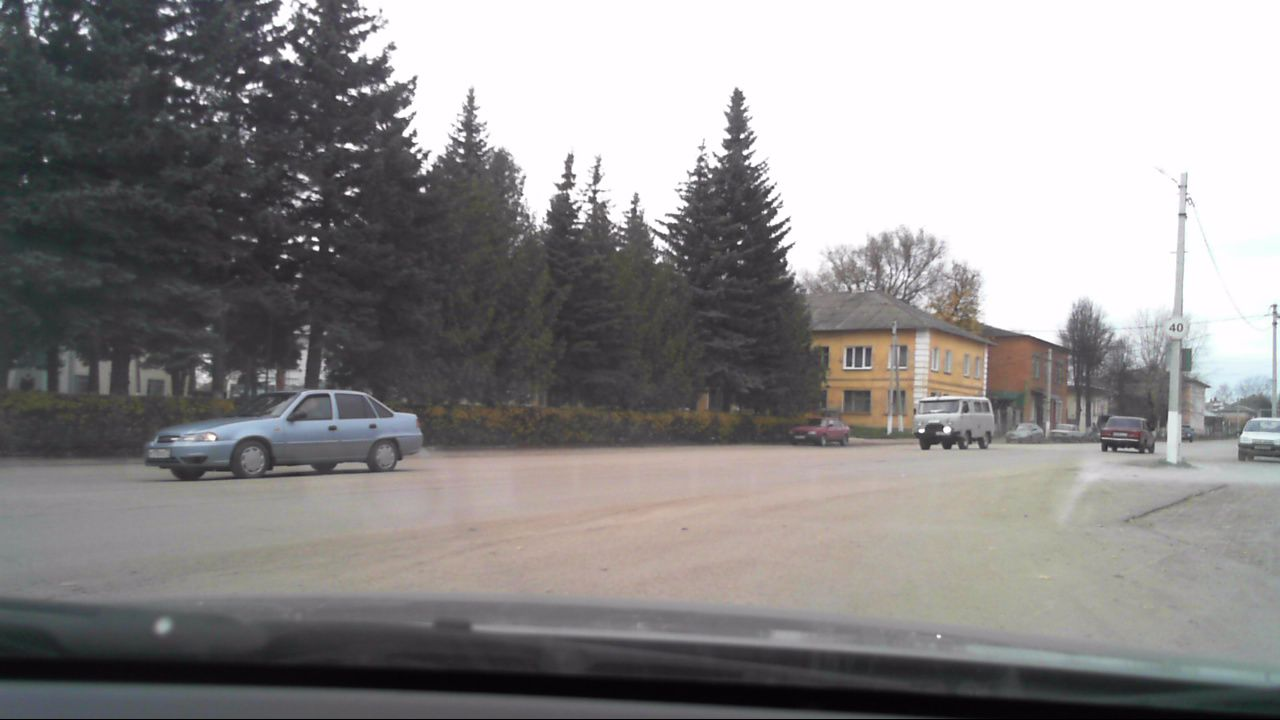speed_warning_40: (1163, 313, 1193, 342)
